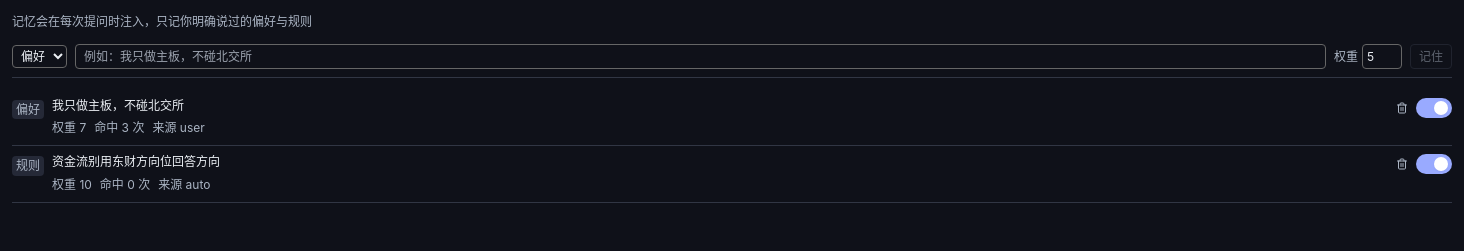
Test: MemoryPanel › 新增失败：乐观行被撤掉
Expected: the number of list items with test id "memory-row" is 2, [12, 90, 1452, 146]; [12, 146, 1452, 203]
Type "写不进去的" into the field with test id "memory-content-input". click: (700, 56)
box: [75, 44, 1326, 69]
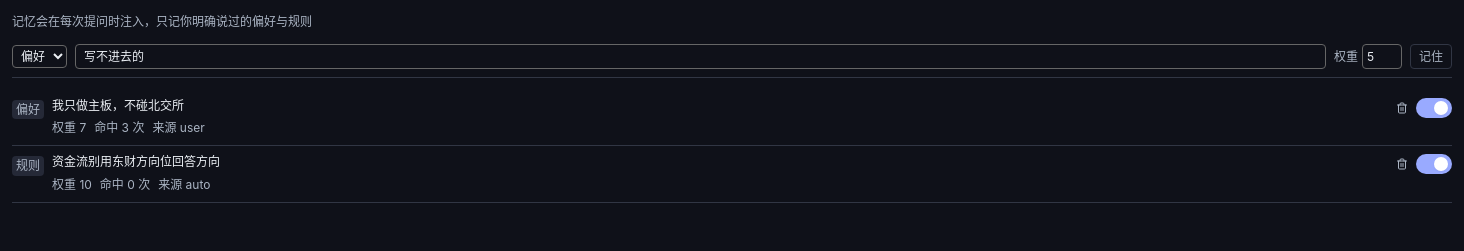
Click the button with test id "memory-add-btn". click: (1431, 56)
box: [1410, 44, 1452, 69]
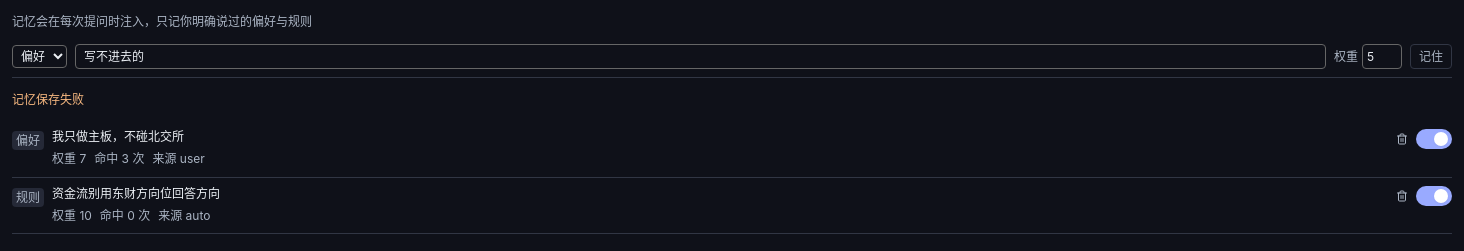
Expected: the number of list items with test id "memory-row" is 2, [12, 121, 1452, 178]; [12, 178, 1452, 234]
Now the message "记忆保存失败" is shown, box [12, 92, 84, 107]
